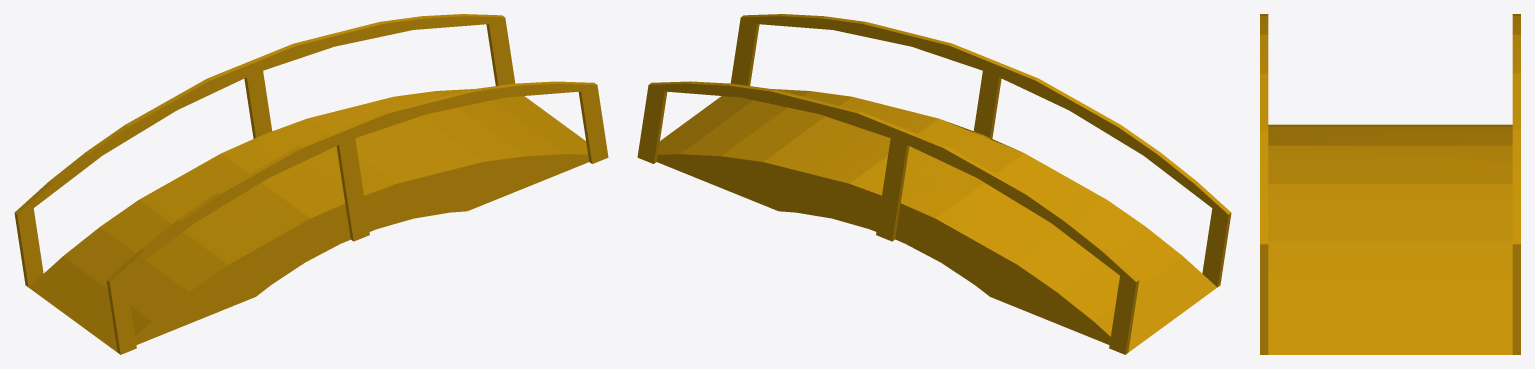
Rendered from Bridge decimated compressed.glb.
3 views of the same model, side by side, from view 1: azimuth 30°, elevation 25°; view 2: azimuth 150°, elevation 25°; view 3: azimuth 270°, elevation 25° (orthographic). The views are drawn at different scales.
Visible parts, largest first — view 1: Bridge; view 2: Bridge; view 3: Bridge.
Part boxes in pixels (x1,y1,x2,y2): Bridge: (14, 14, 608, 354); Bridge: (637, 14, 1231, 354); Bridge: (1260, 14, 1520, 354).
Bounding box in the file's own units: 1.59 × 0.5404 × 0.5265.
